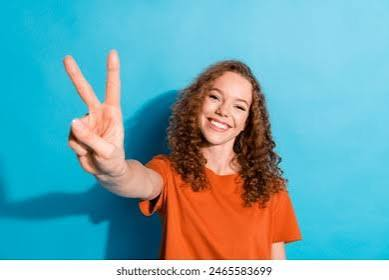peace_sign: (61, 42, 130, 179)
